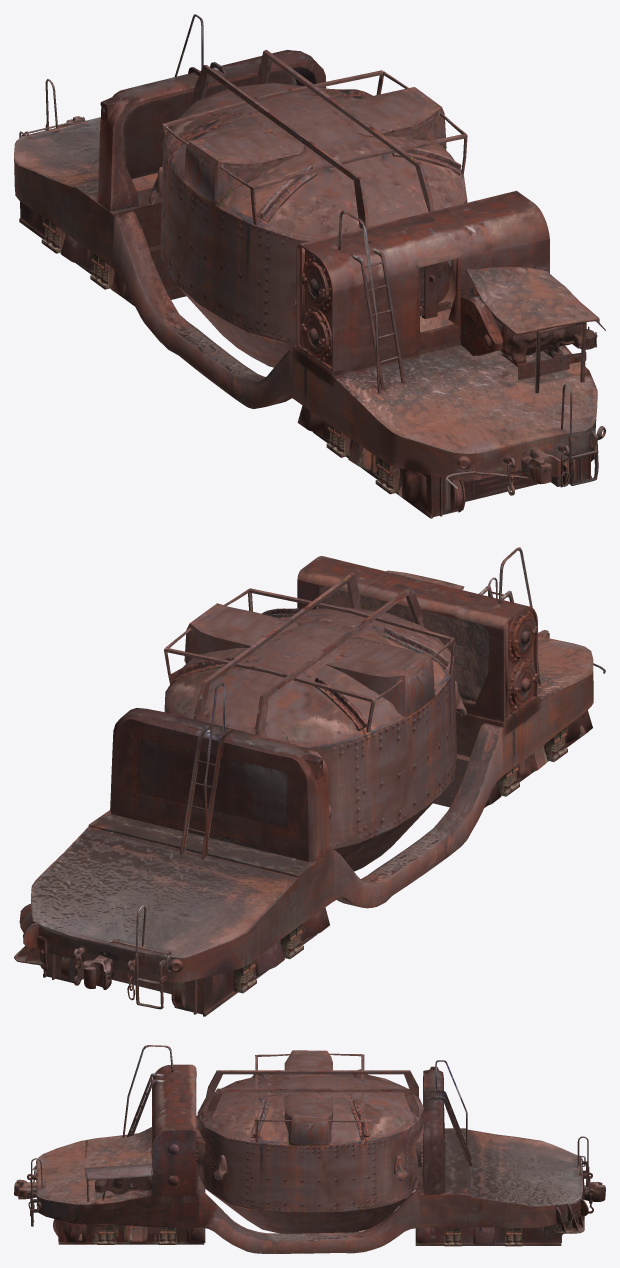
The model's file is ladle_car.glb.
3 renders of one model, top to bottom at view 1: azimuth 30°, elevation 25°; view 2: azimuth 150°, elevation 25°; view 3: azimuth 270°, elevation 25°, orthographic. The views are drawn at different scales.
Visible parts, largest first — view 1: Object_2, Object_3; view 2: Object_2, Object_3; view 3: Object_2, Object_3.
Boxes of the visible parts, bbox=[...] form: Object_2: bbox=[14, 14, 605, 518]; Object_3: bbox=[14, 69, 598, 495]; Object_2: bbox=[31, 548, 593, 1016]; Object_3: bbox=[14, 547, 605, 1009]; Object_2: bbox=[36, 1045, 605, 1253]; Object_3: bbox=[14, 1045, 605, 1246].
Bounding box in the file's own units: 4.62 × 4.82 × 16.19.
1 material, 1 textured.
